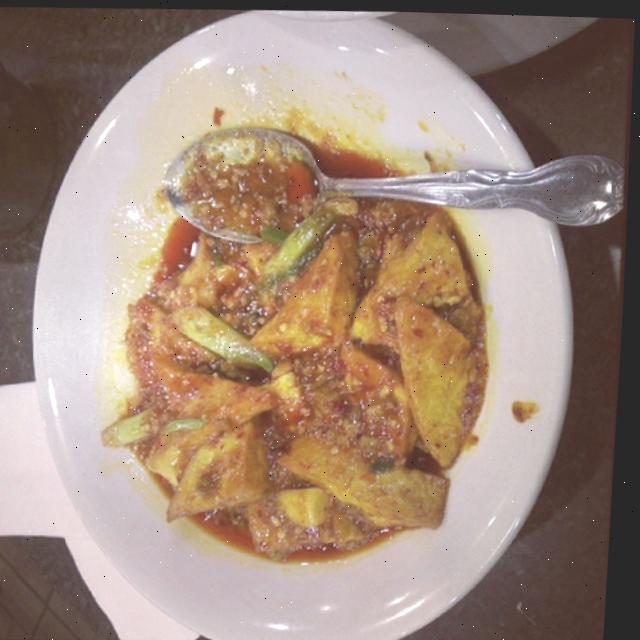豆腐料理: (24, 1, 590, 633)
